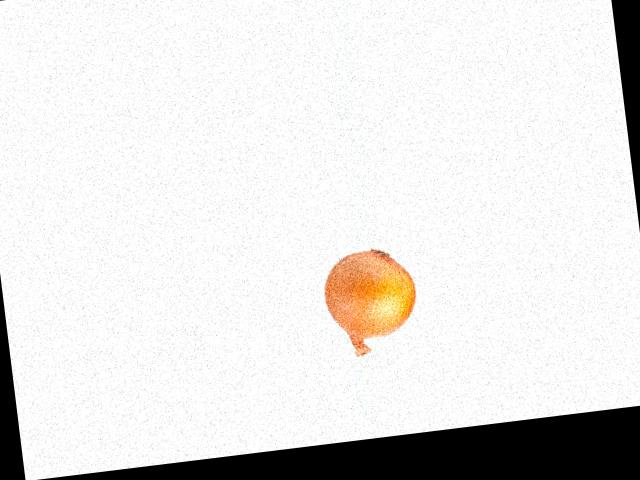onion: (318, 246, 422, 347)
